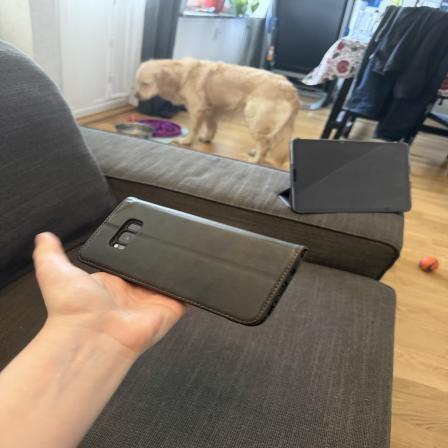phone: (76, 191, 322, 324)
